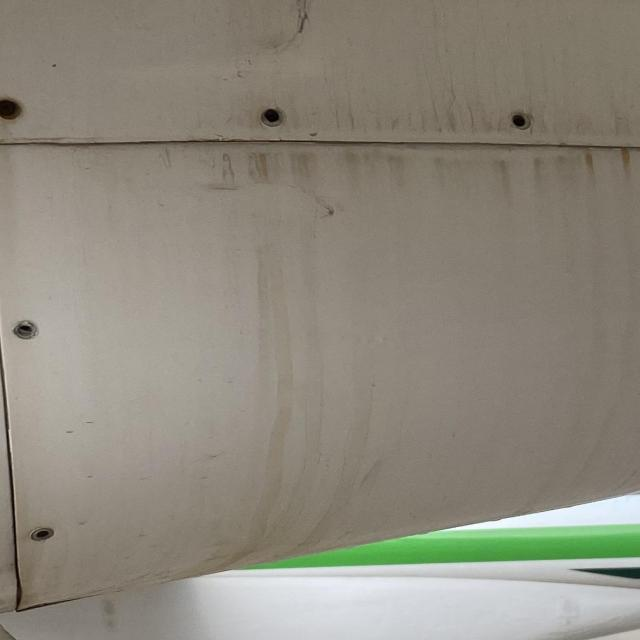Missing-head: (10, 320, 37, 340), (0, 97, 23, 120), (258, 107, 284, 126), (510, 110, 532, 130), (27, 528, 53, 542)
Paint-off: (283, 0, 314, 47), (302, 132, 322, 140)
